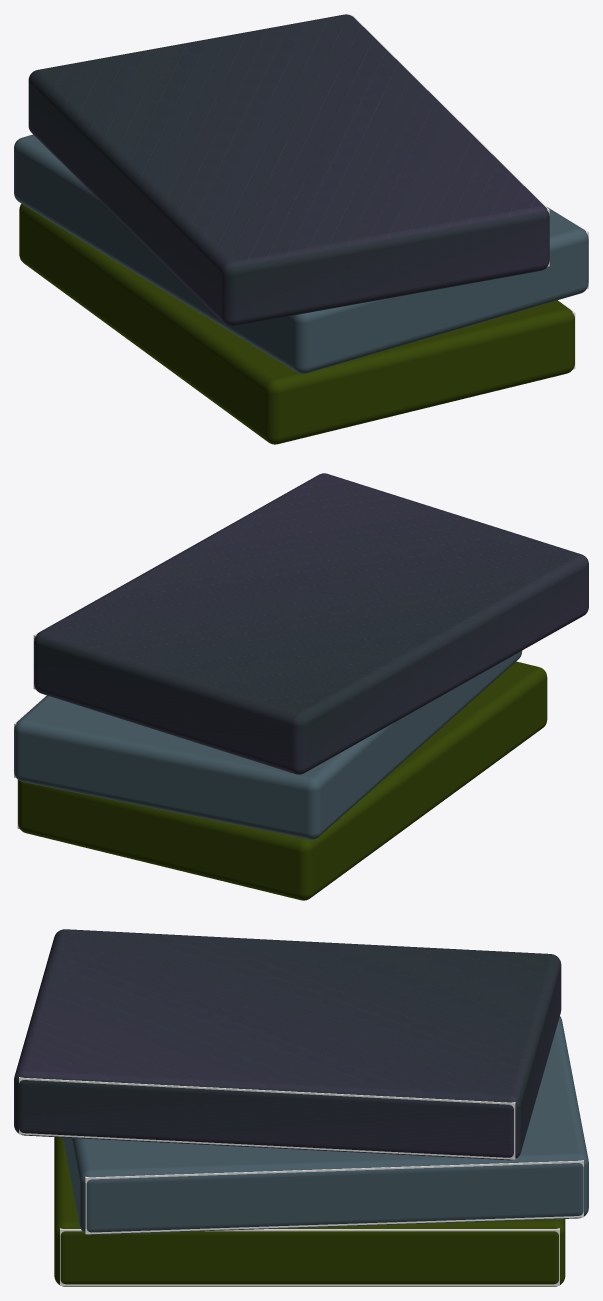
Rendered from state-default.glb.
3 views of the same model, one above another, from view 1: azimuth 30°, elevation 25°; view 2: azimuth 150°, elevation 25°; view 3: azimuth 270°, elevation 25° (orthographic). The views are drawn at different scales.
Visible parts, largest first — view 1: assetPrim:22db76c93c7648-19c7324b0a5:book-3-cover, assetPrim:22db76c93c7648-19c7324b0a5:book-1-cover, assetPrim:22db76c93c7648-19c7324b0a5:book-2-cover; view 2: assetPrim:22db76c93c7648-19c7324b0a5:book-3-cover, assetPrim:22db76c93c7648-19c7324b0a5:book-1-cover, assetPrim:22db76c93c7648-19c7324b0a5:book-2-cover; view 3: assetPrim:22db76c93c7648-19c7324b0a5:book-3-cover, assetPrim:22db76c93c7648-19c7324b0a5:book-2-cover, assetPrim:22db76c93c7648-19c7324b0a5:book-1-cover, assetPrim:22db76c93c7648-19c7324b0a5:book-2-pages, assetPrim:22db76c93c7648-19c7324b0a5:book-3-pages, assetPrim:22db76c93c7648-19c7324b0a5:book-1-pages.
Part boxes in pixels (bbox=[...]): assetPrim:22db76c93c7648-19c7324b0a5:book-3-cover: bbox=[28, 14, 549, 326]; assetPrim:22db76c93c7648-19c7324b0a5:book-1-cover: bbox=[19, 203, 574, 444]; assetPrim:22db76c93c7648-19c7324b0a5:book-2-cover: bbox=[14, 134, 588, 373]; assetPrim:22db76c93c7648-19c7324b0a5:book-3-cover: bbox=[34, 473, 588, 774]; assetPrim:22db76c93c7648-19c7324b0a5:book-1-cover: bbox=[18, 661, 547, 900]; assetPrim:22db76c93c7648-19c7324b0a5:book-2-cover: bbox=[14, 651, 522, 839]; assetPrim:22db76c93c7648-19c7324b0a5:book-3-cover: bbox=[14, 929, 561, 1160]; assetPrim:22db76c93c7648-19c7324b0a5:book-2-cover: bbox=[63, 1016, 588, 1234]; assetPrim:22db76c93c7648-19c7324b0a5:book-1-cover: bbox=[54, 1137, 565, 1286]; assetPrim:22db76c93c7648-19c7324b0a5:book-2-pages: bbox=[85, 1160, 583, 1234]; assetPrim:22db76c93c7648-19c7324b0a5:book-3-pages: bbox=[19, 1077, 515, 1159]; assetPrim:22db76c93c7648-19c7324b0a5:book-1-pages: bbox=[60, 1228, 559, 1285].
Size of the model in its own units: 0.1961 by 0.096 by 0.2588.
6 materials, 1 textured.
